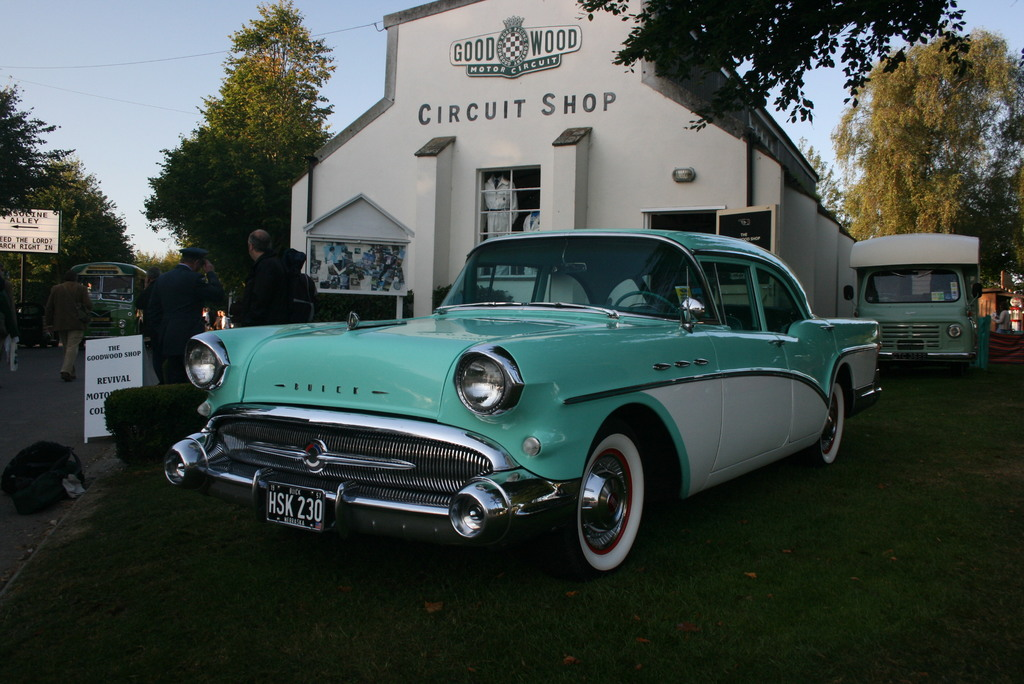person: (42, 268, 94, 382)
